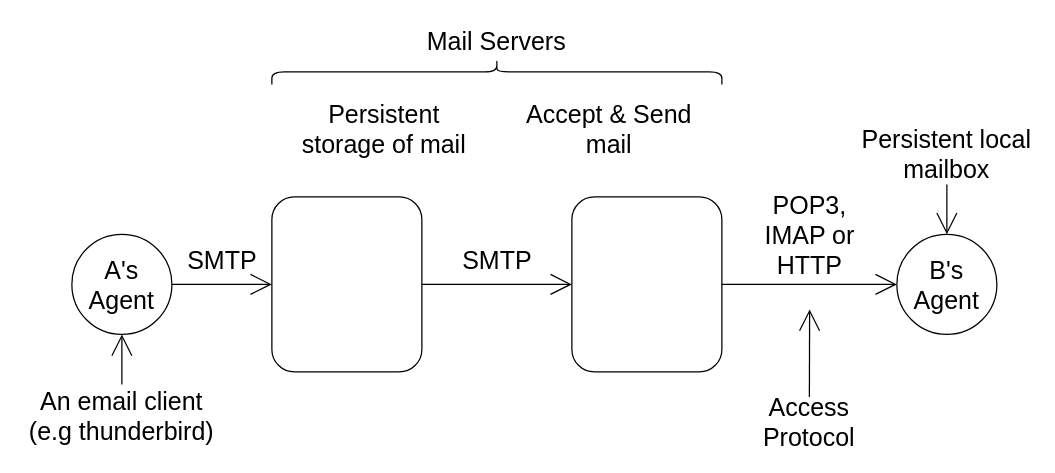
Some shapes in this 1055 by 473 pixel diagram are drawn without their labels. Each missing label, with the box of its shape:
A's Mail Server: (271, 196, 422, 372)
B's Mail Server: (571, 196, 722, 372)
